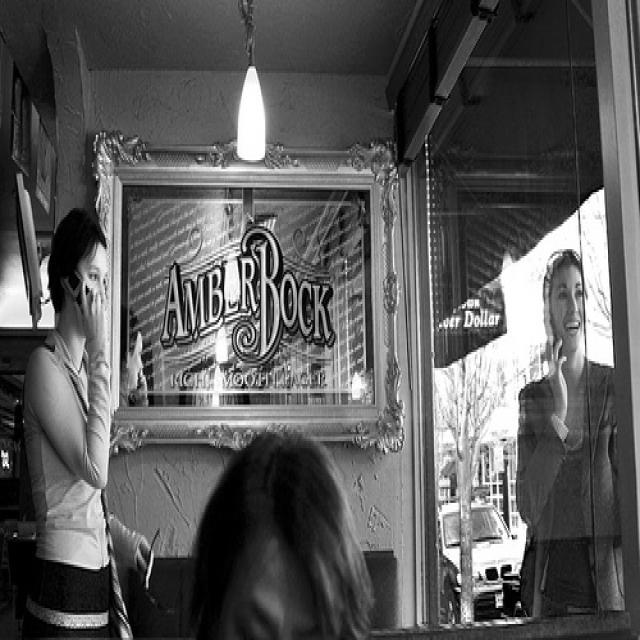Vehicle: (439, 499, 523, 613)
